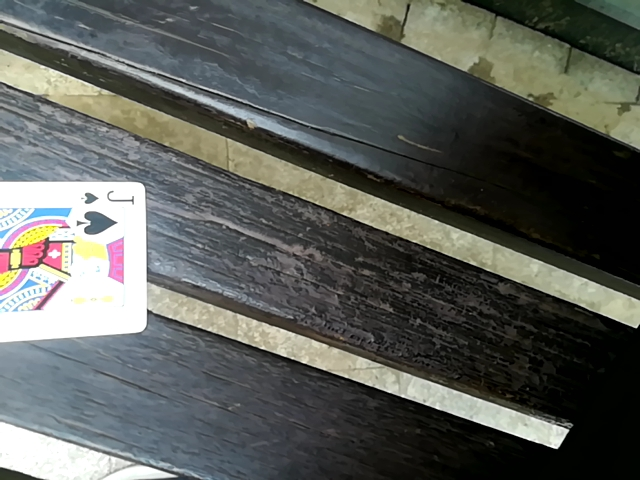ht j: (1, 165, 136, 342)
